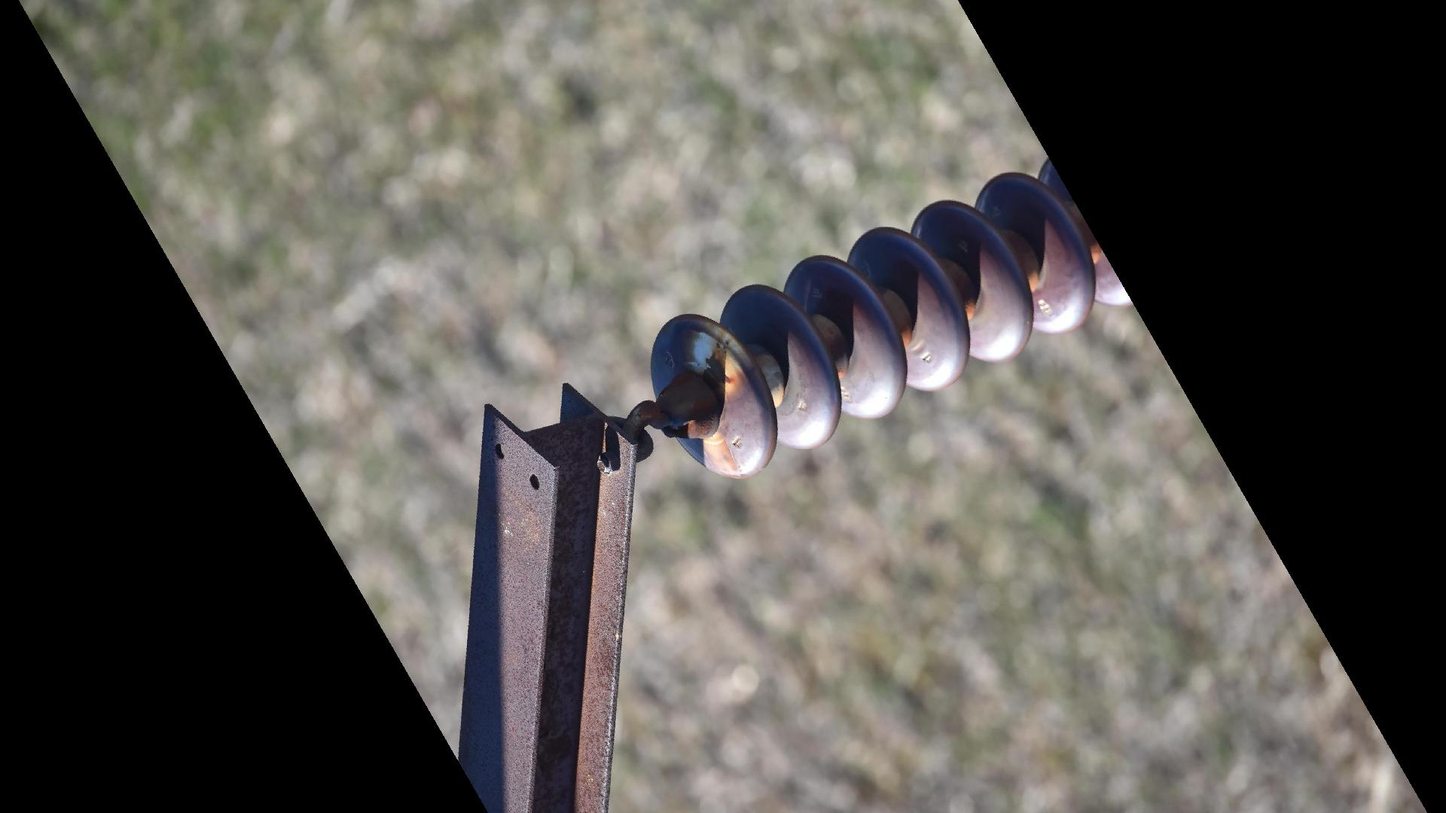insulator: (645, 156, 1132, 489)
insulator_flashover: (686, 318, 747, 397), (700, 431, 743, 481)
